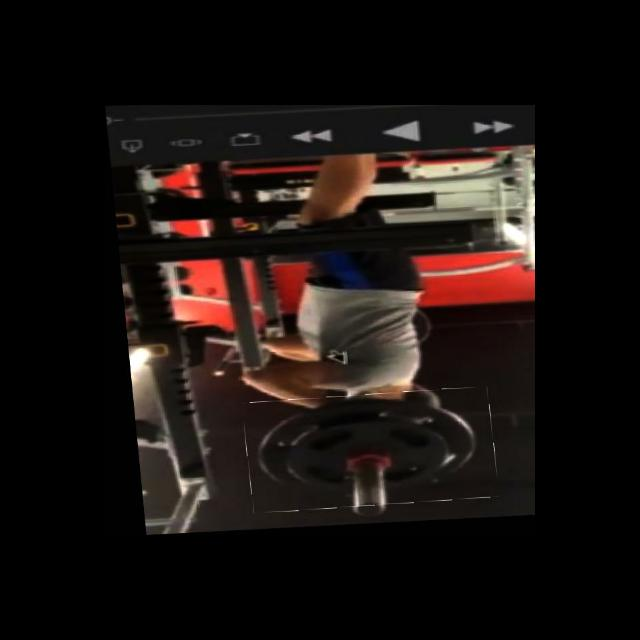barbell: (236, 391, 491, 514)
